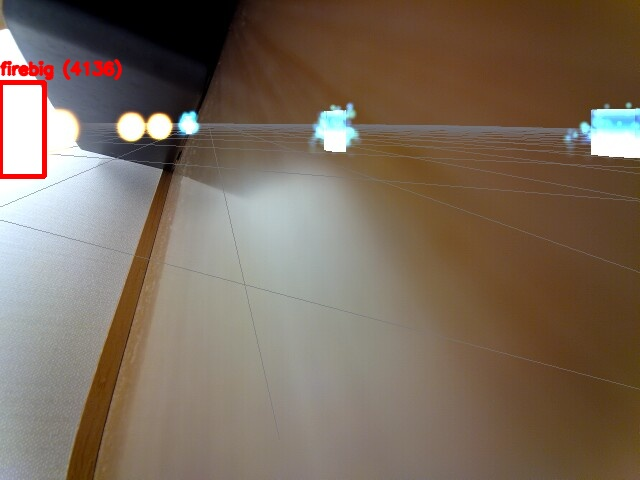firebig: (0, 82, 44, 176)
